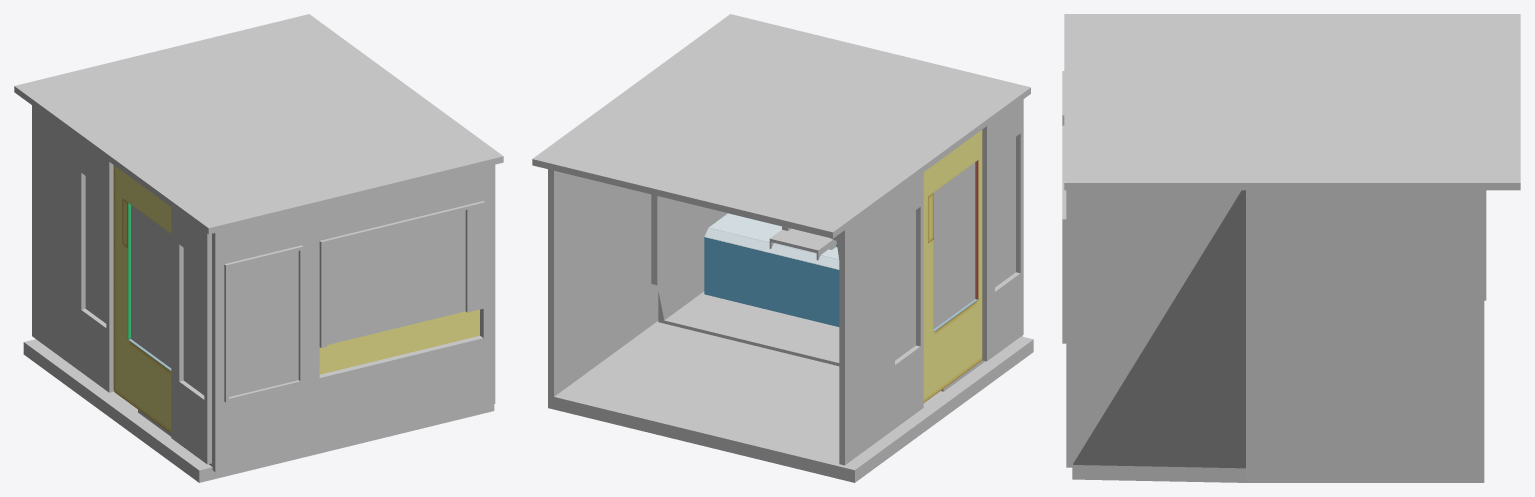
File: train-front.fbx
3 views of the same model, side by side, from view 1: azimuth 30°, elevation 25°; view 2: azimuth 150°, elevation 25°; view 3: azimuth 270°, elevation 25° (orthographic). The views are drawn at different scales.
Visible parts, largest first — view 1: cuboid_11, cuboid_5, cuboid_13, cube_9, cuboid_6, cube_10, cuboid_12, cuboid_10, cuboid_9, cube_20, desk, cube_21 (+8 smaller); view 2: cuboid_11, cuboid_10, cuboid_13, desk, cuboid_12, cuboid_9, cube_8, cuboid_7, cube_20, cube_19, cube_21, cuboid_3; view 3: cuboid_10, cuboid_11, cuboid_7, cube_11.
Part boxes in pixels (x1,y1,x2,y2): cuboid_11: (14,14,503,234); cuboid_5: (310,166,489,442); cuboid_13: (32,105,113,392); cube_9: (327,210,465,344); cuboid_6: (212,209,310,465); cube_10: (229,251,298,396); cuboid_12: (113,165,171,433); cuboid_10: (23,339,494,482); cuboid_9: (171,207,211,464); cube_20: (131,205,171,367); desk: (319,309,479,374); cube_21: (85,176,106,323); cuboid_11: (532,14,1030,238); cuboid_10: (548,169,1033,482); cuboid_13: (830,172,923,465); desk: (704,213,839,326); cuboid_12: (923,130,982,402); cuboid_9: (982,99,1023,361); cube_8: (658,291,1022,391); cuboid_7: (651,194,727,320); cube_20: (928,162,975,328); cube_19: (995,137,1015,287); cube_21: (895,210,915,360); cuboid_3: (769,228,835,253); cuboid_10: (1072,186,1484,482); cuboid_11: (1064,14,1520,190); cuboid_7: (1066,190,1241,460); cube_11: (1062,209,1066,343).
Size of the model in its own units: 631 by 512 by 709.
4 materials, 4 textured.
